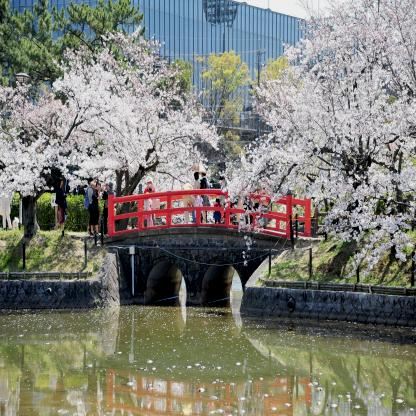Someiyoshino: (228, 4, 415, 258), (1, 24, 214, 195)
